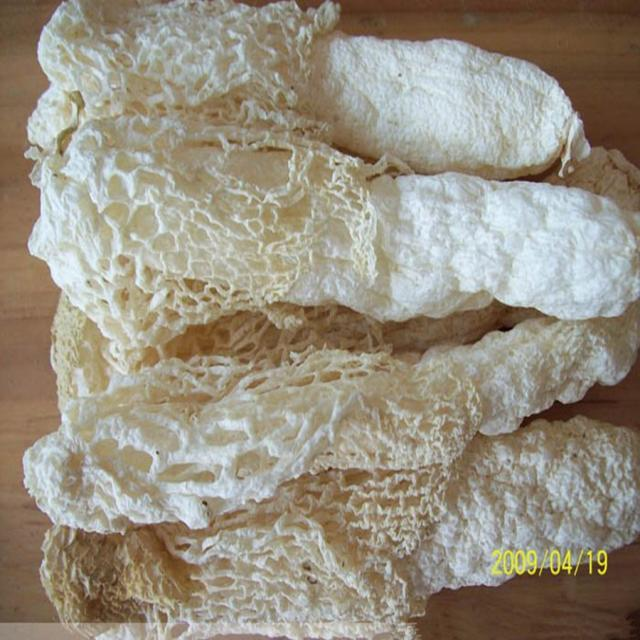Dictyophora indusiate: (21, 311, 640, 531), (38, 420, 640, 634), (37, 127, 640, 318), (32, 4, 576, 179)
